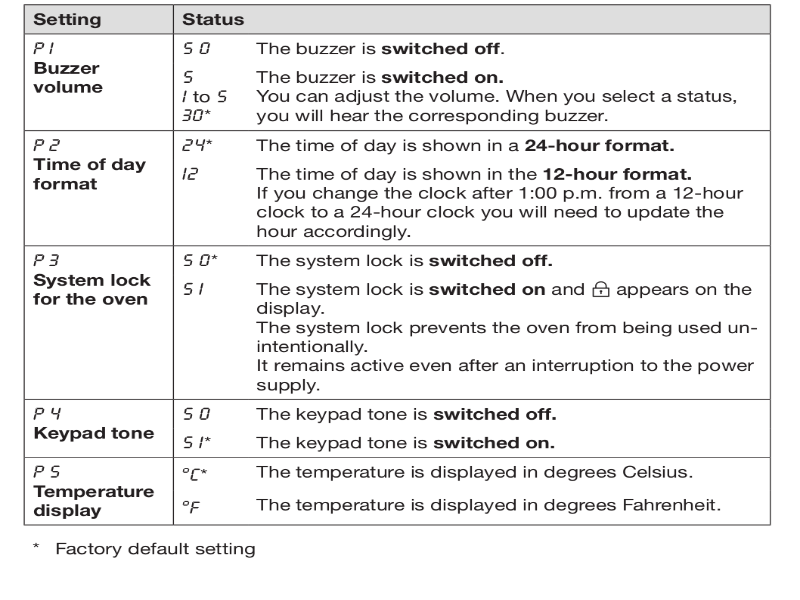border: (16, 1, 781, 535)
cell: (179, 253, 764, 395), (177, 137, 761, 240), (179, 40, 745, 125), (178, 462, 765, 518), (179, 405, 764, 451), (29, 251, 157, 327), (28, 135, 151, 200), (27, 462, 165, 519), (28, 403, 162, 446), (29, 40, 123, 99), (31, 10, 121, 30), (179, 10, 256, 30)
